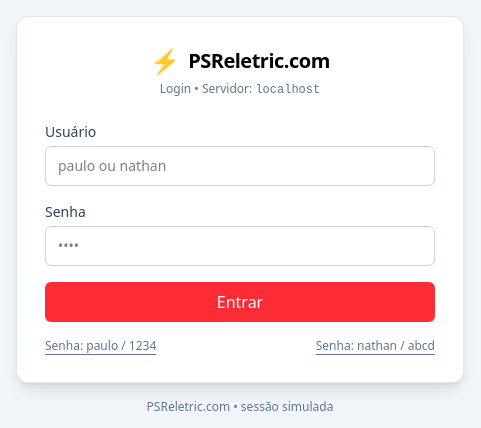
Test case: Login Component › botão de mock preenche usuário e senha automaticamente
Step 1. Click the button "Senha: paulo / 1234" → (101, 346), box 45,338 -> 156,354
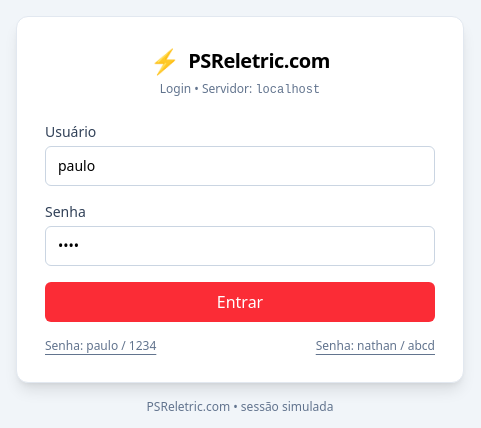
Result: the field labelled "Usuário" holds "paulo" at 45,146 -> 435,186
Result: the password field labelled "Senha" holds "1234" at 45,226 -> 435,266
